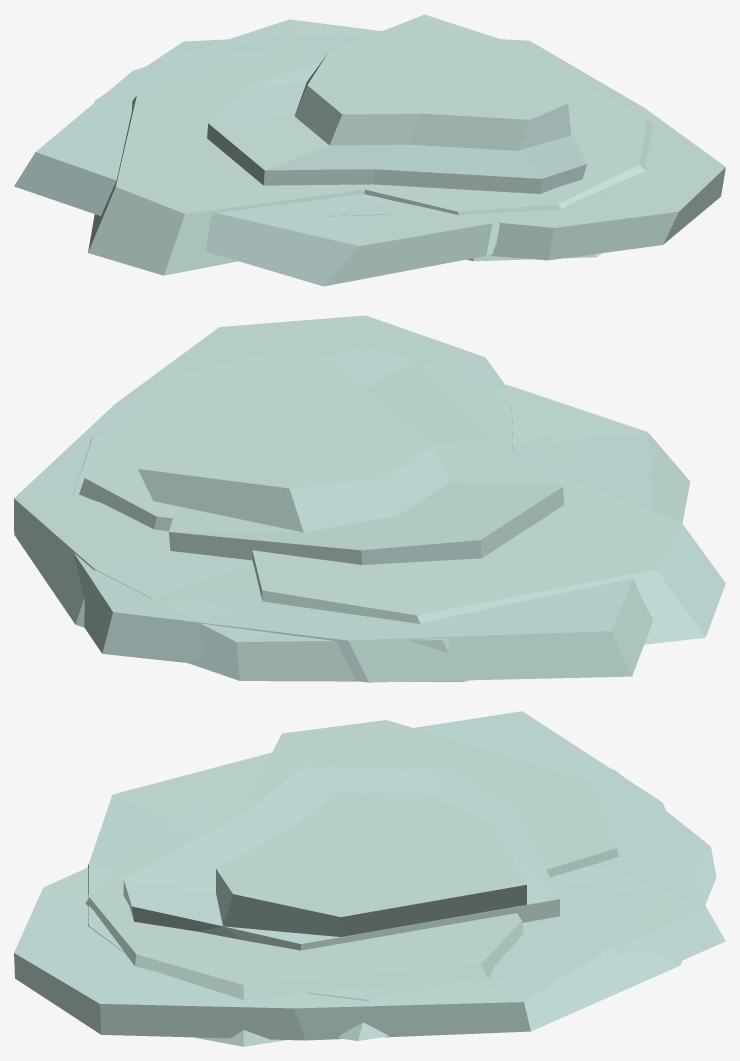
Rendered from arctic_ice01.fbx.
3 renders of one model, top to bottom at view 1: azimuth 30°, elevation 25°; view 2: azimuth 150°, elevation 25°; view 3: azimuth 270°, elevation 25°, orthographic. The views are drawn at different scales.
Parts seen in each view (by area): view 1: IcheSheet_02, IcheSheet_04, IcheSheet_03, IcheSheet_01; view 2: IcheSheet_02, IcheSheet_03, IcheSheet_04, IcheSheet_01; view 3: IcheSheet_02, IcheSheet_01, IcheSheet_04, IcheSheet_03.
Part boxes in pixels (x1,y1,x2,y2): IcheSheet_02: (207, 14, 587, 193); IcheSheet_04: (88, 58, 653, 275); IcheSheet_03: (14, 19, 649, 286); IcheSheet_01: (94, 32, 725, 260); IcheSheet_02: (138, 348, 564, 564); IcheSheet_03: (69, 372, 690, 682); IcheSheet_04: (79, 352, 725, 644); IcheSheet_01: (14, 315, 608, 681); IcheSheet_02: (123, 766, 559, 950); IcheSheet_01: (14, 769, 716, 1040); IcheSheet_04: (85, 720, 618, 1046); IcheSheet_03: (88, 711, 725, 1040).
Size of the model in its own units: 3.42 by 0.783 by 3.41.
